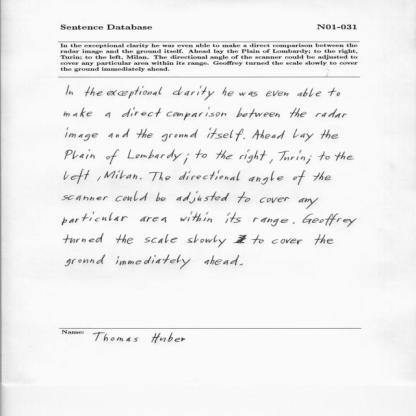Handwritten text: (59, 79, 346, 103), (55, 229, 340, 252), (57, 250, 262, 281), (53, 166, 336, 188), (58, 145, 354, 166), (61, 124, 340, 146), (50, 104, 353, 123), (60, 211, 363, 230), (56, 189, 319, 210)
